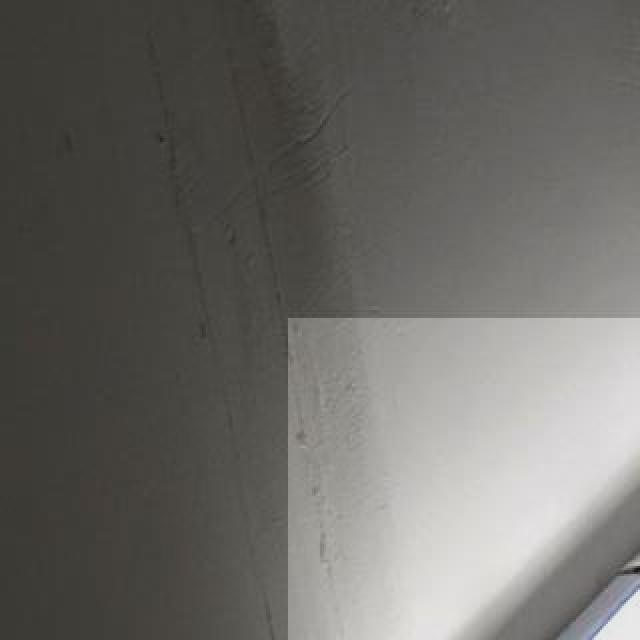fluorescent tube: (366, 340, 640, 640)
